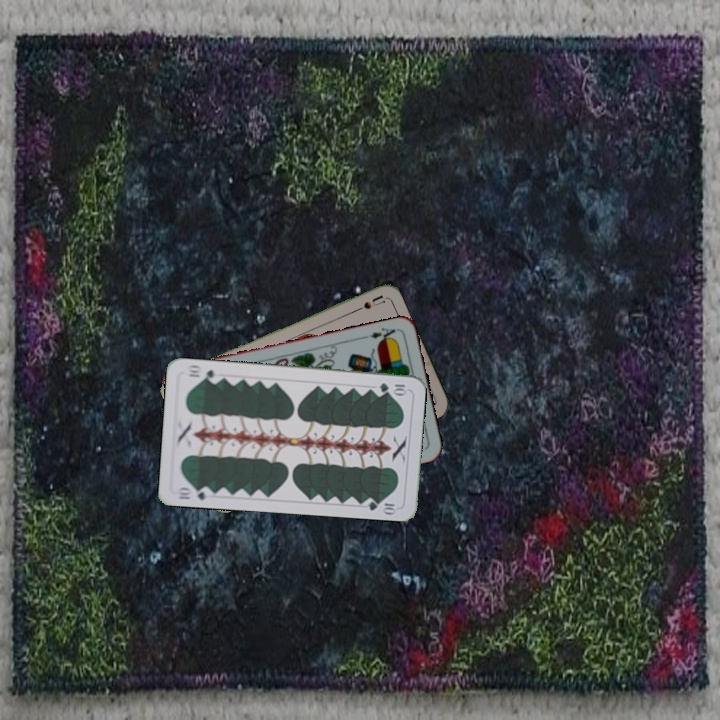EA: (360, 323, 400, 345)
G10: (172, 483, 214, 503), (375, 379, 409, 396)
SU: (347, 291, 387, 316)
